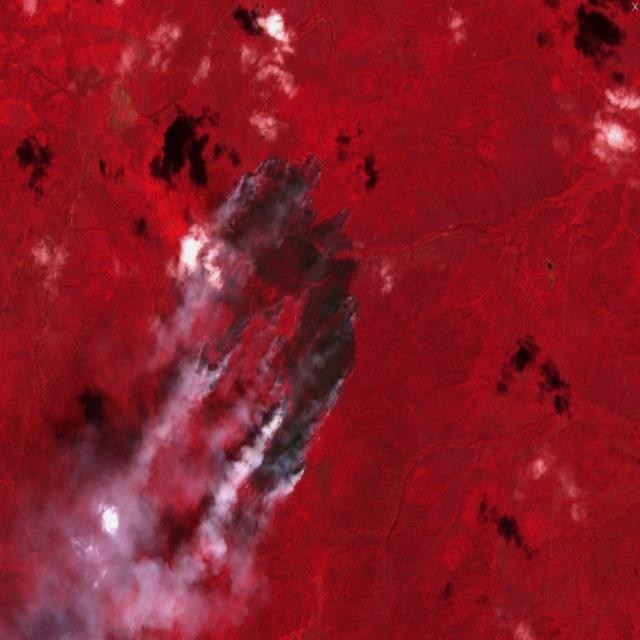fire: (203, 145, 364, 510)
